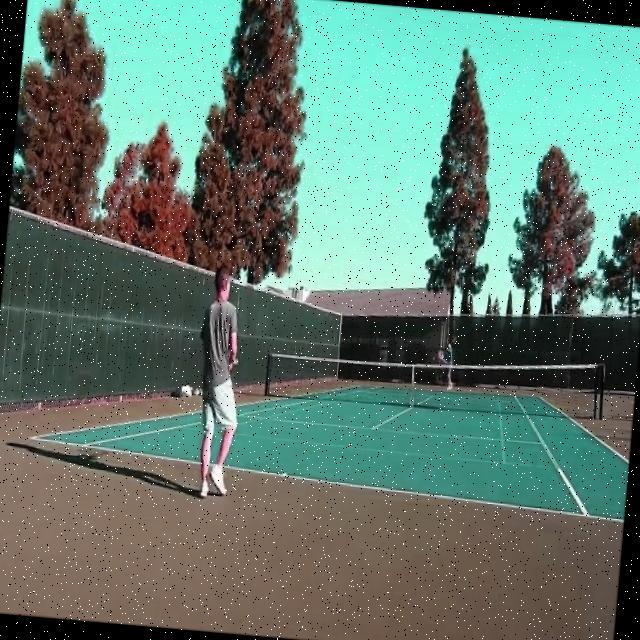court: (24, 352, 634, 522)
net: (264, 346, 606, 418)
player: (186, 261, 251, 500)
